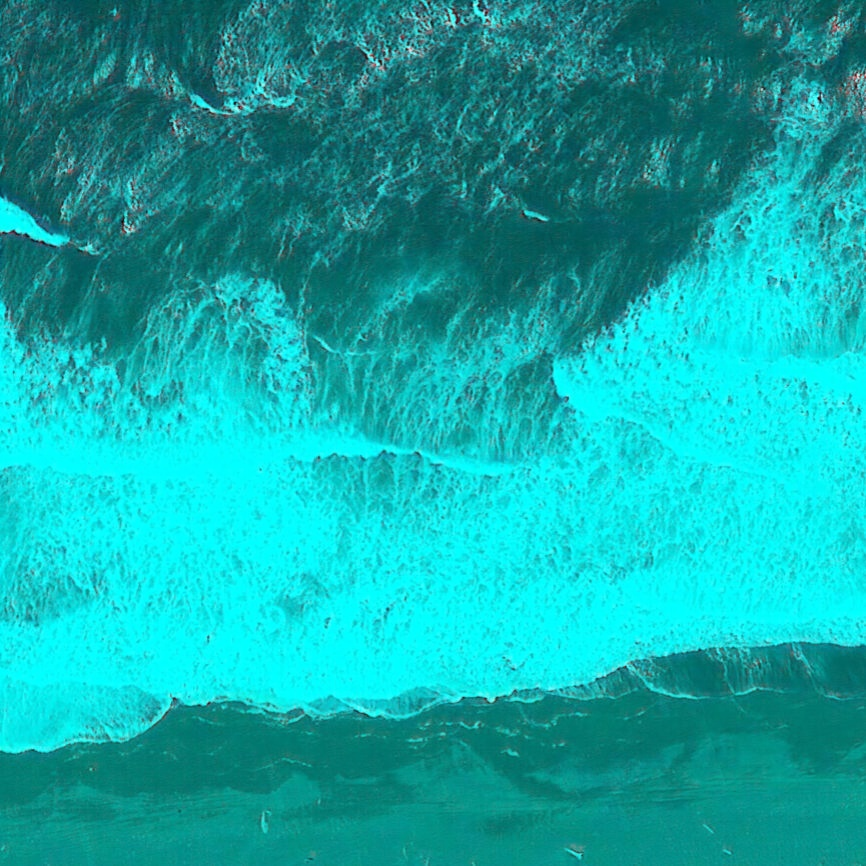rip_current: (275, 59, 626, 607)
